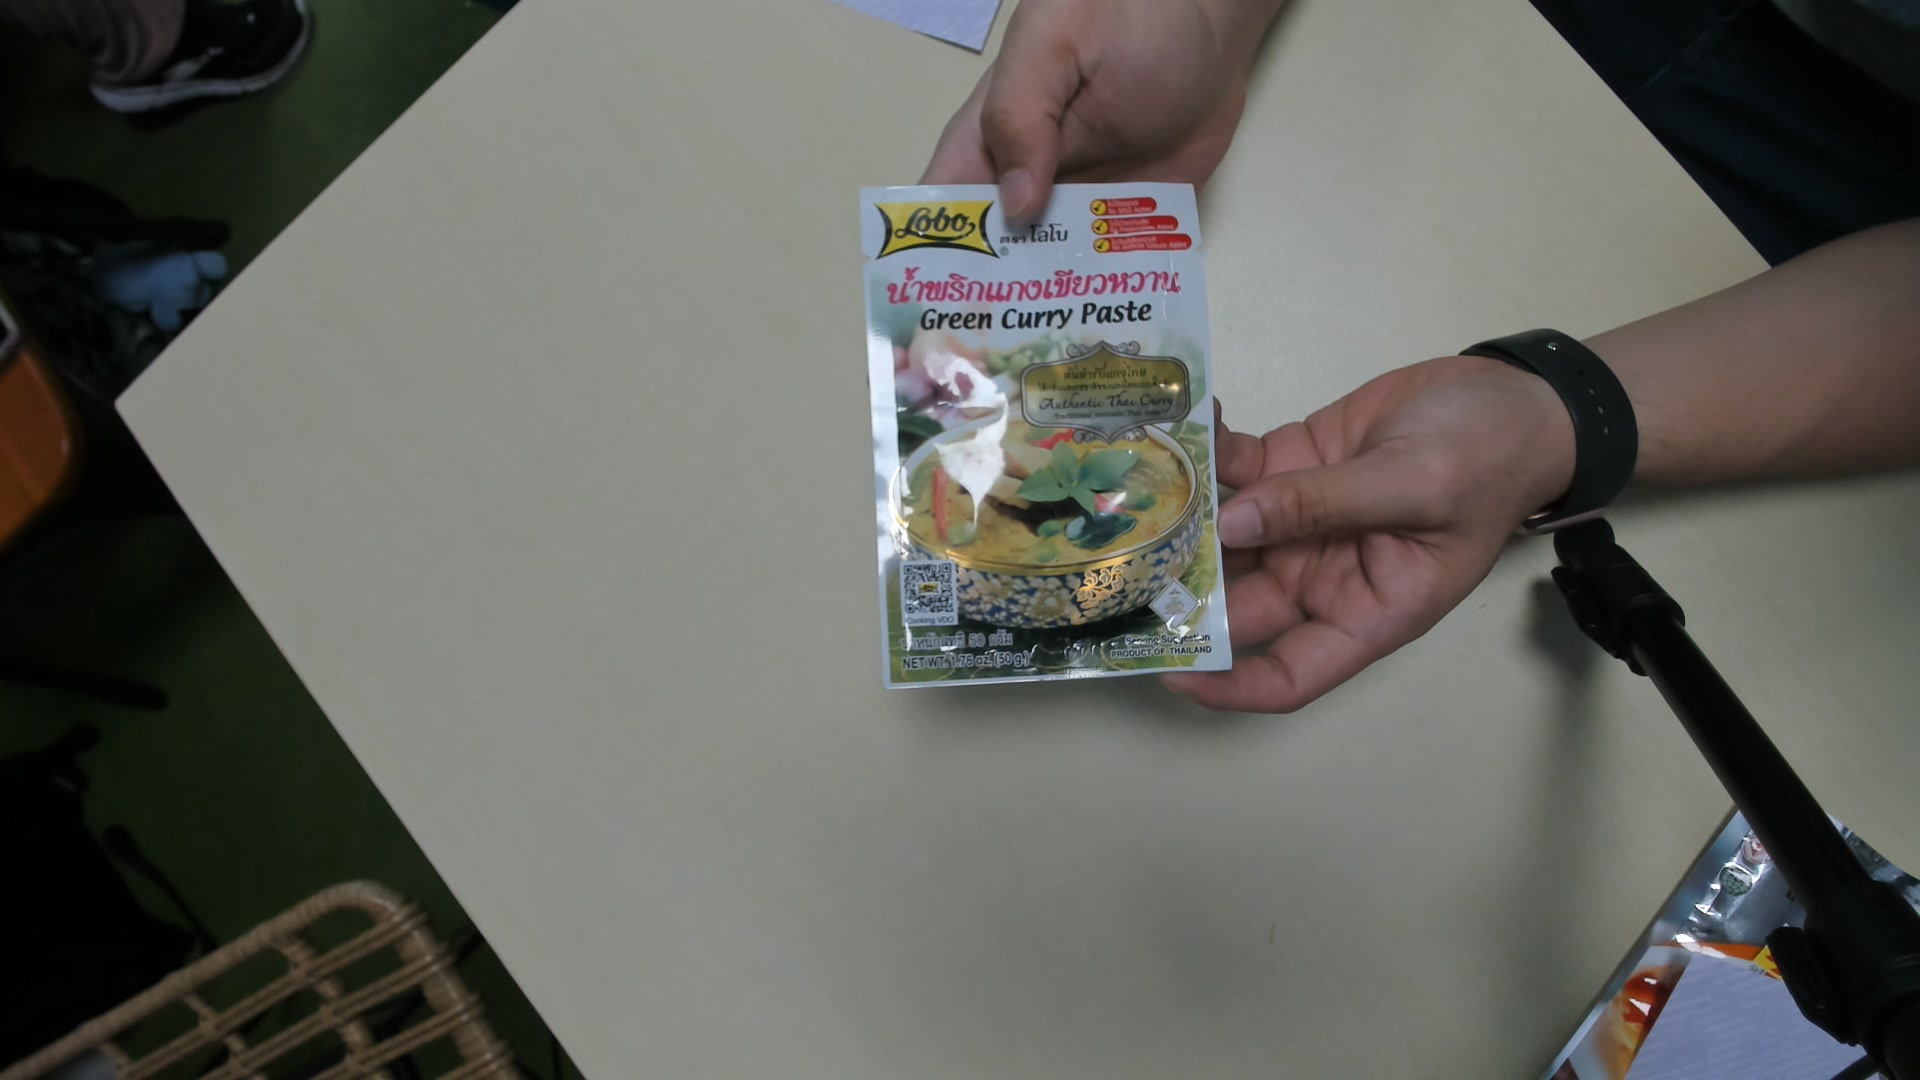CurryPastePowderSauce_0-99g_Halal_NonHealthy: (858, 177, 1236, 716)
